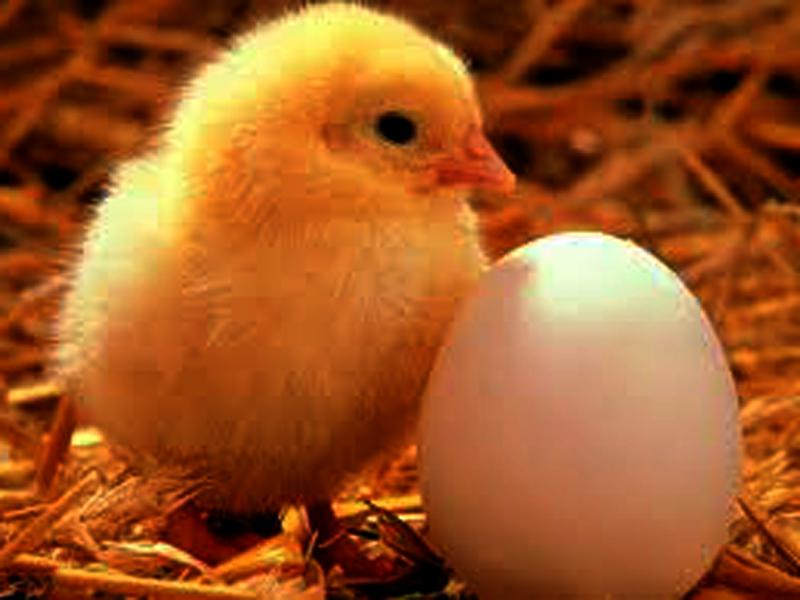Eggs: (416, 229, 740, 600)
